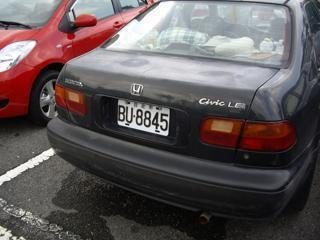plate: (116, 96, 172, 139)
